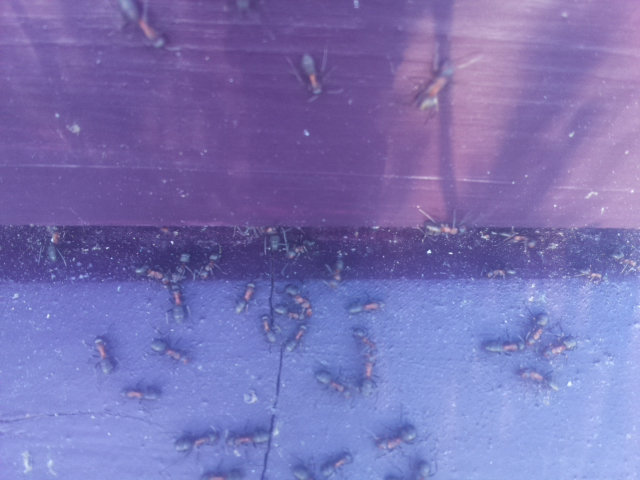ant: (107, 0, 177, 67), (408, 49, 463, 117), (140, 258, 191, 327), (290, 448, 359, 478), (260, 227, 316, 262), (306, 365, 357, 403), (142, 334, 198, 368), (372, 419, 423, 455), (89, 332, 121, 383), (295, 47, 325, 100), (281, 279, 315, 321), (324, 242, 350, 294), (255, 309, 286, 352), (194, 243, 225, 284), (41, 222, 68, 265), (524, 307, 550, 351), (121, 381, 163, 406), (231, 280, 259, 315), (343, 297, 385, 317), (547, 334, 579, 358)
